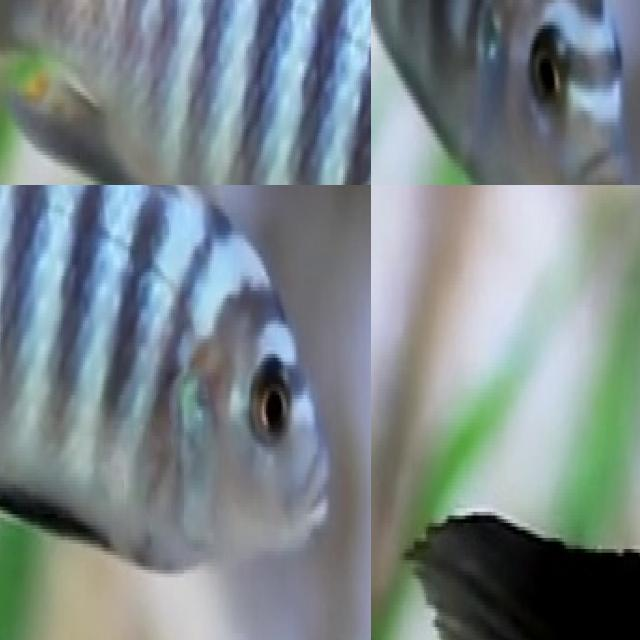fish: (0, 0, 371, 185), (371, 404, 640, 640)
